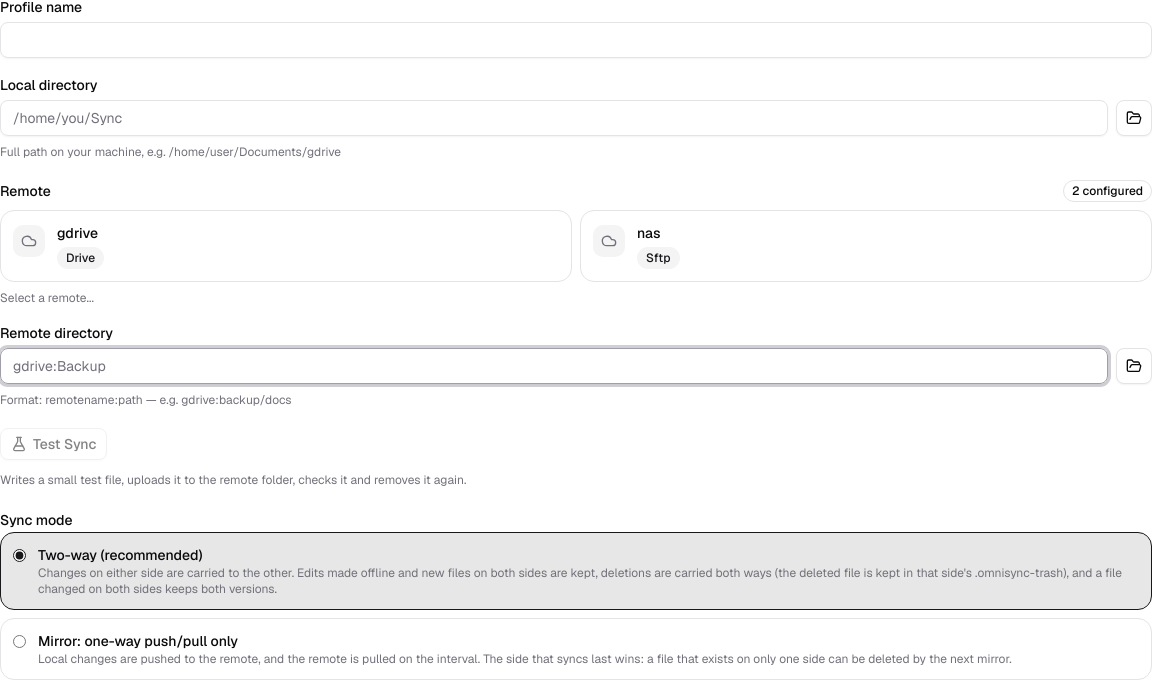
Test: ProfileForm directory browsing › the remote browse button opens a remote DirBrowser that fills the remote directory
This screenshot has width=1152, height=699.
Type keys "gdrive:"
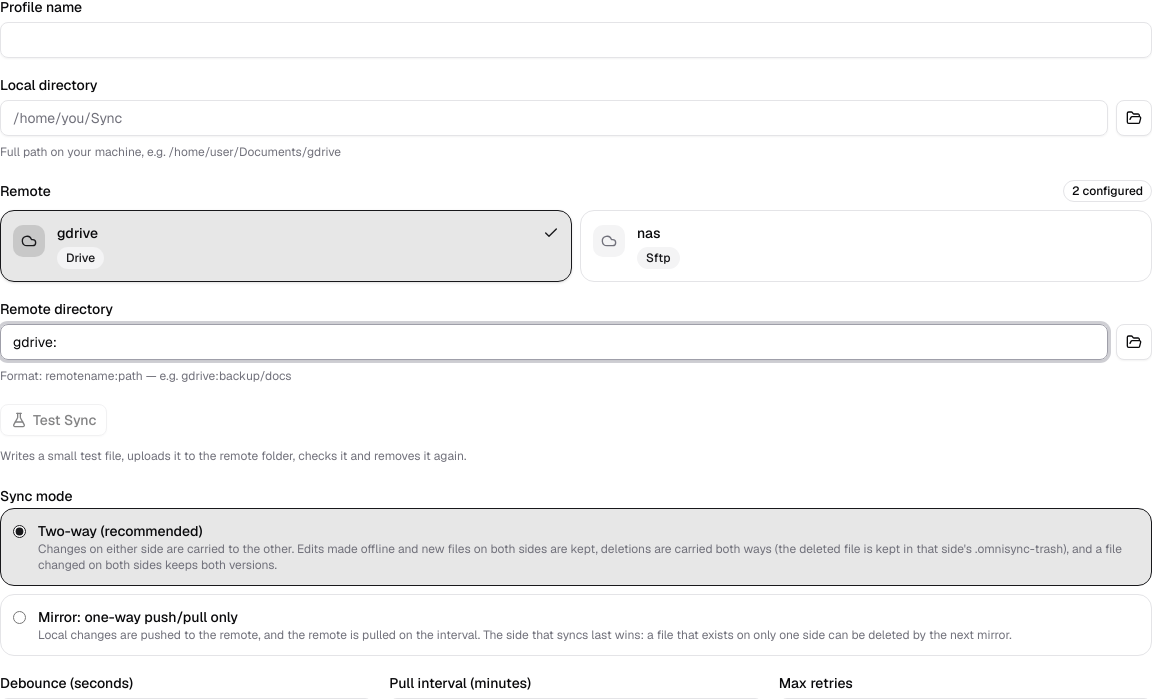
Click the button named "Browse remote directory": (1134, 342) [1116, 324, 1151, 360]
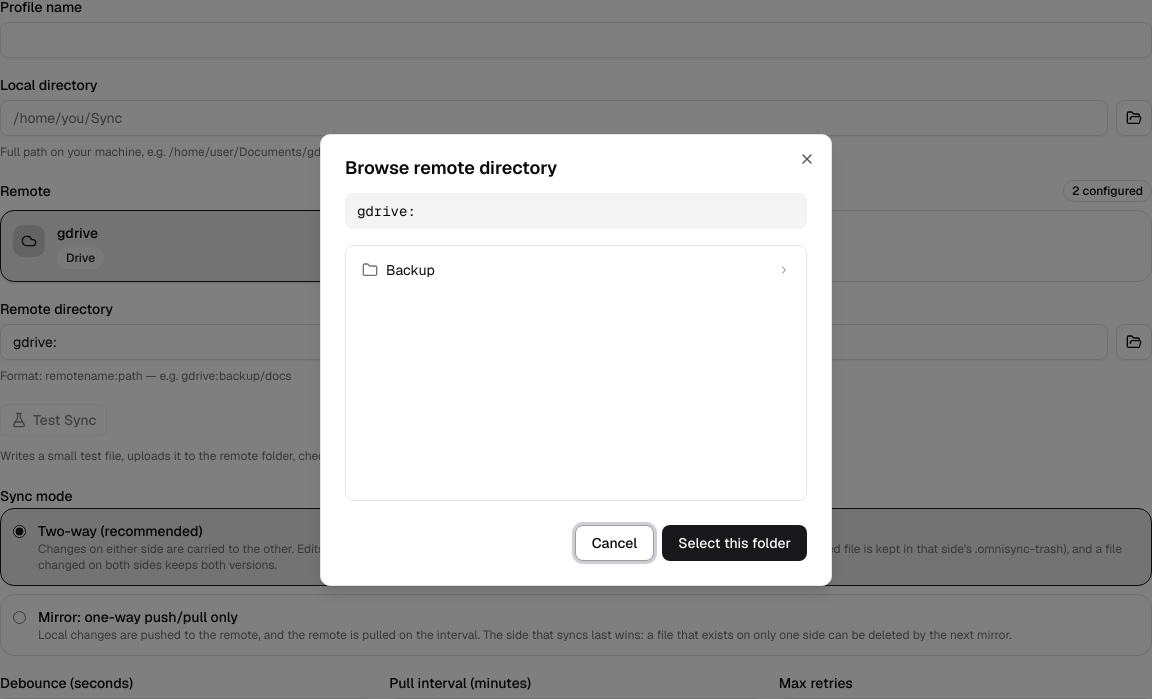
Click the button "Backup": (410, 270) [354, 254, 798, 286]
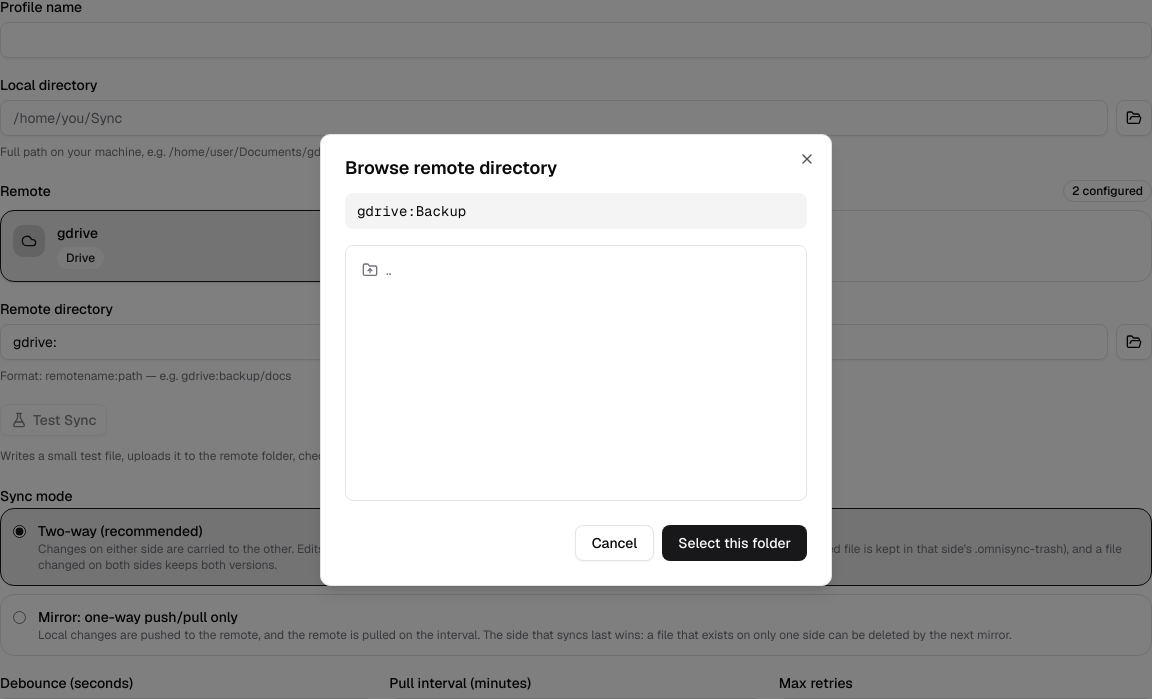
Now the text "gdrive:Backup" is shown, box [345, 193, 807, 229]
Click the button "Select this folder": (735, 543) [662, 525, 807, 561]
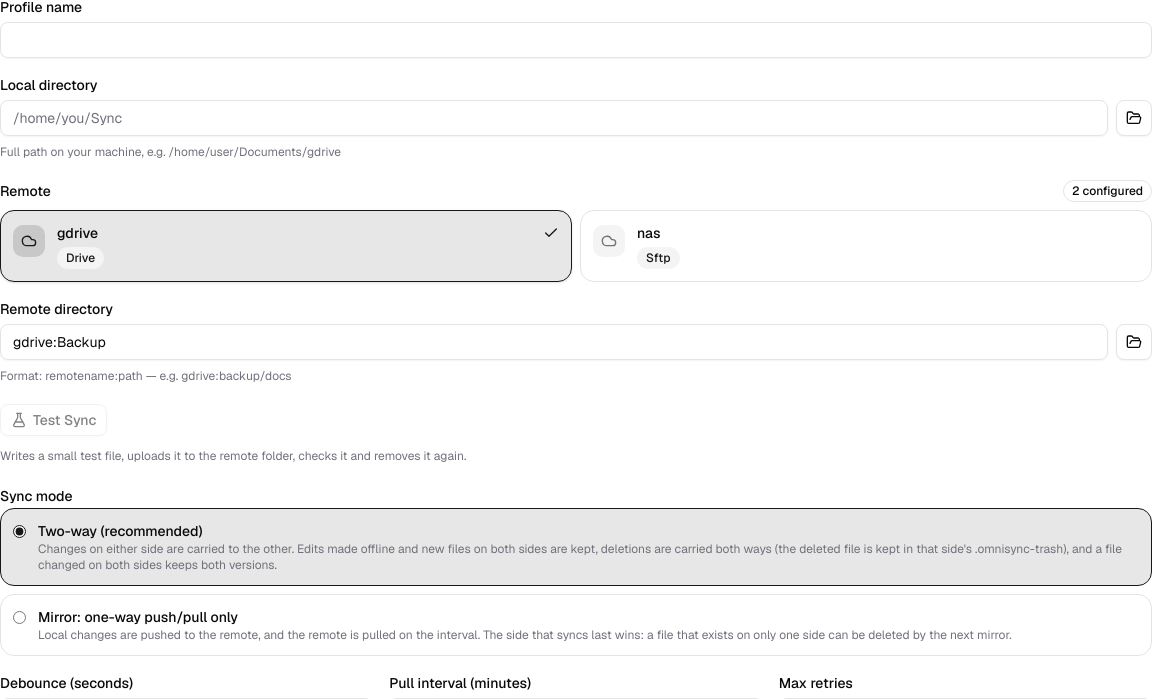
Now the dialog is gone
Now the field labelled "Remote directory" holds "gdrive:Backup", box [0, 324, 1108, 360]
